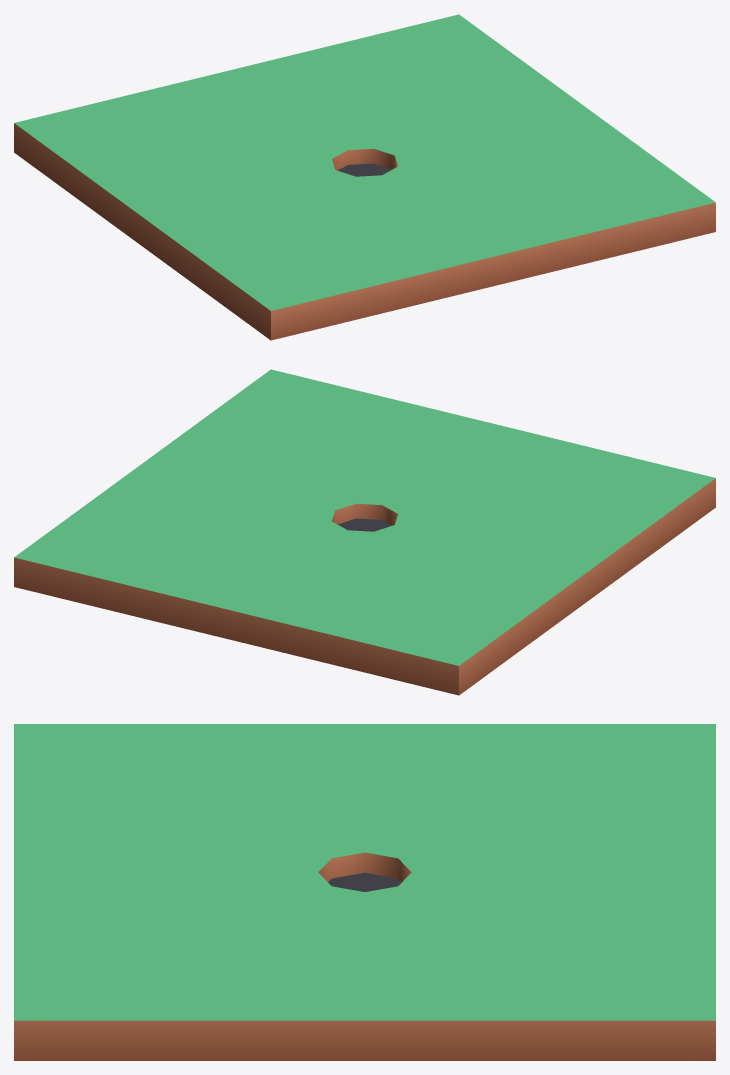
Rendered from hole-open.glb.
The picture shows the model from 3 angles, top to bottom: view 1: azimuth 30°, elevation 25°; view 2: azimuth 150°, elevation 25°; view 3: azimuth 270°, elevation 25°; orthographic projection. The views are drawn at different scales.
Visible parts, largest first — view 1: hole-open; view 2: hole-open; view 3: hole-open.
Part boxes in pixels (box(x1,y1,x2,y2)): hole-open: box(14, 14, 715, 340); hole-open: box(14, 369, 715, 695); hole-open: box(14, 724, 715, 1060).
Size of the model in its own units: 0.9999 by 0.0634 by 0.9999.
Materials: 1 (1 with a texture image).
